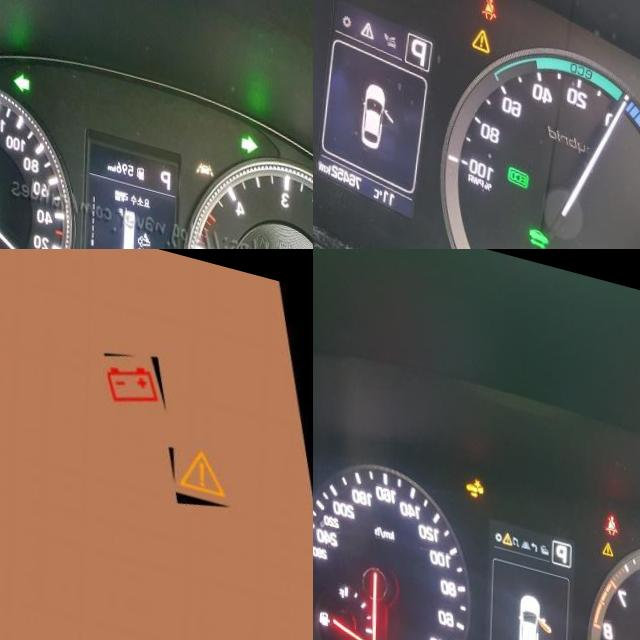Central Warning lamp: (474, 4, 494, 32), (605, 520, 617, 539)
